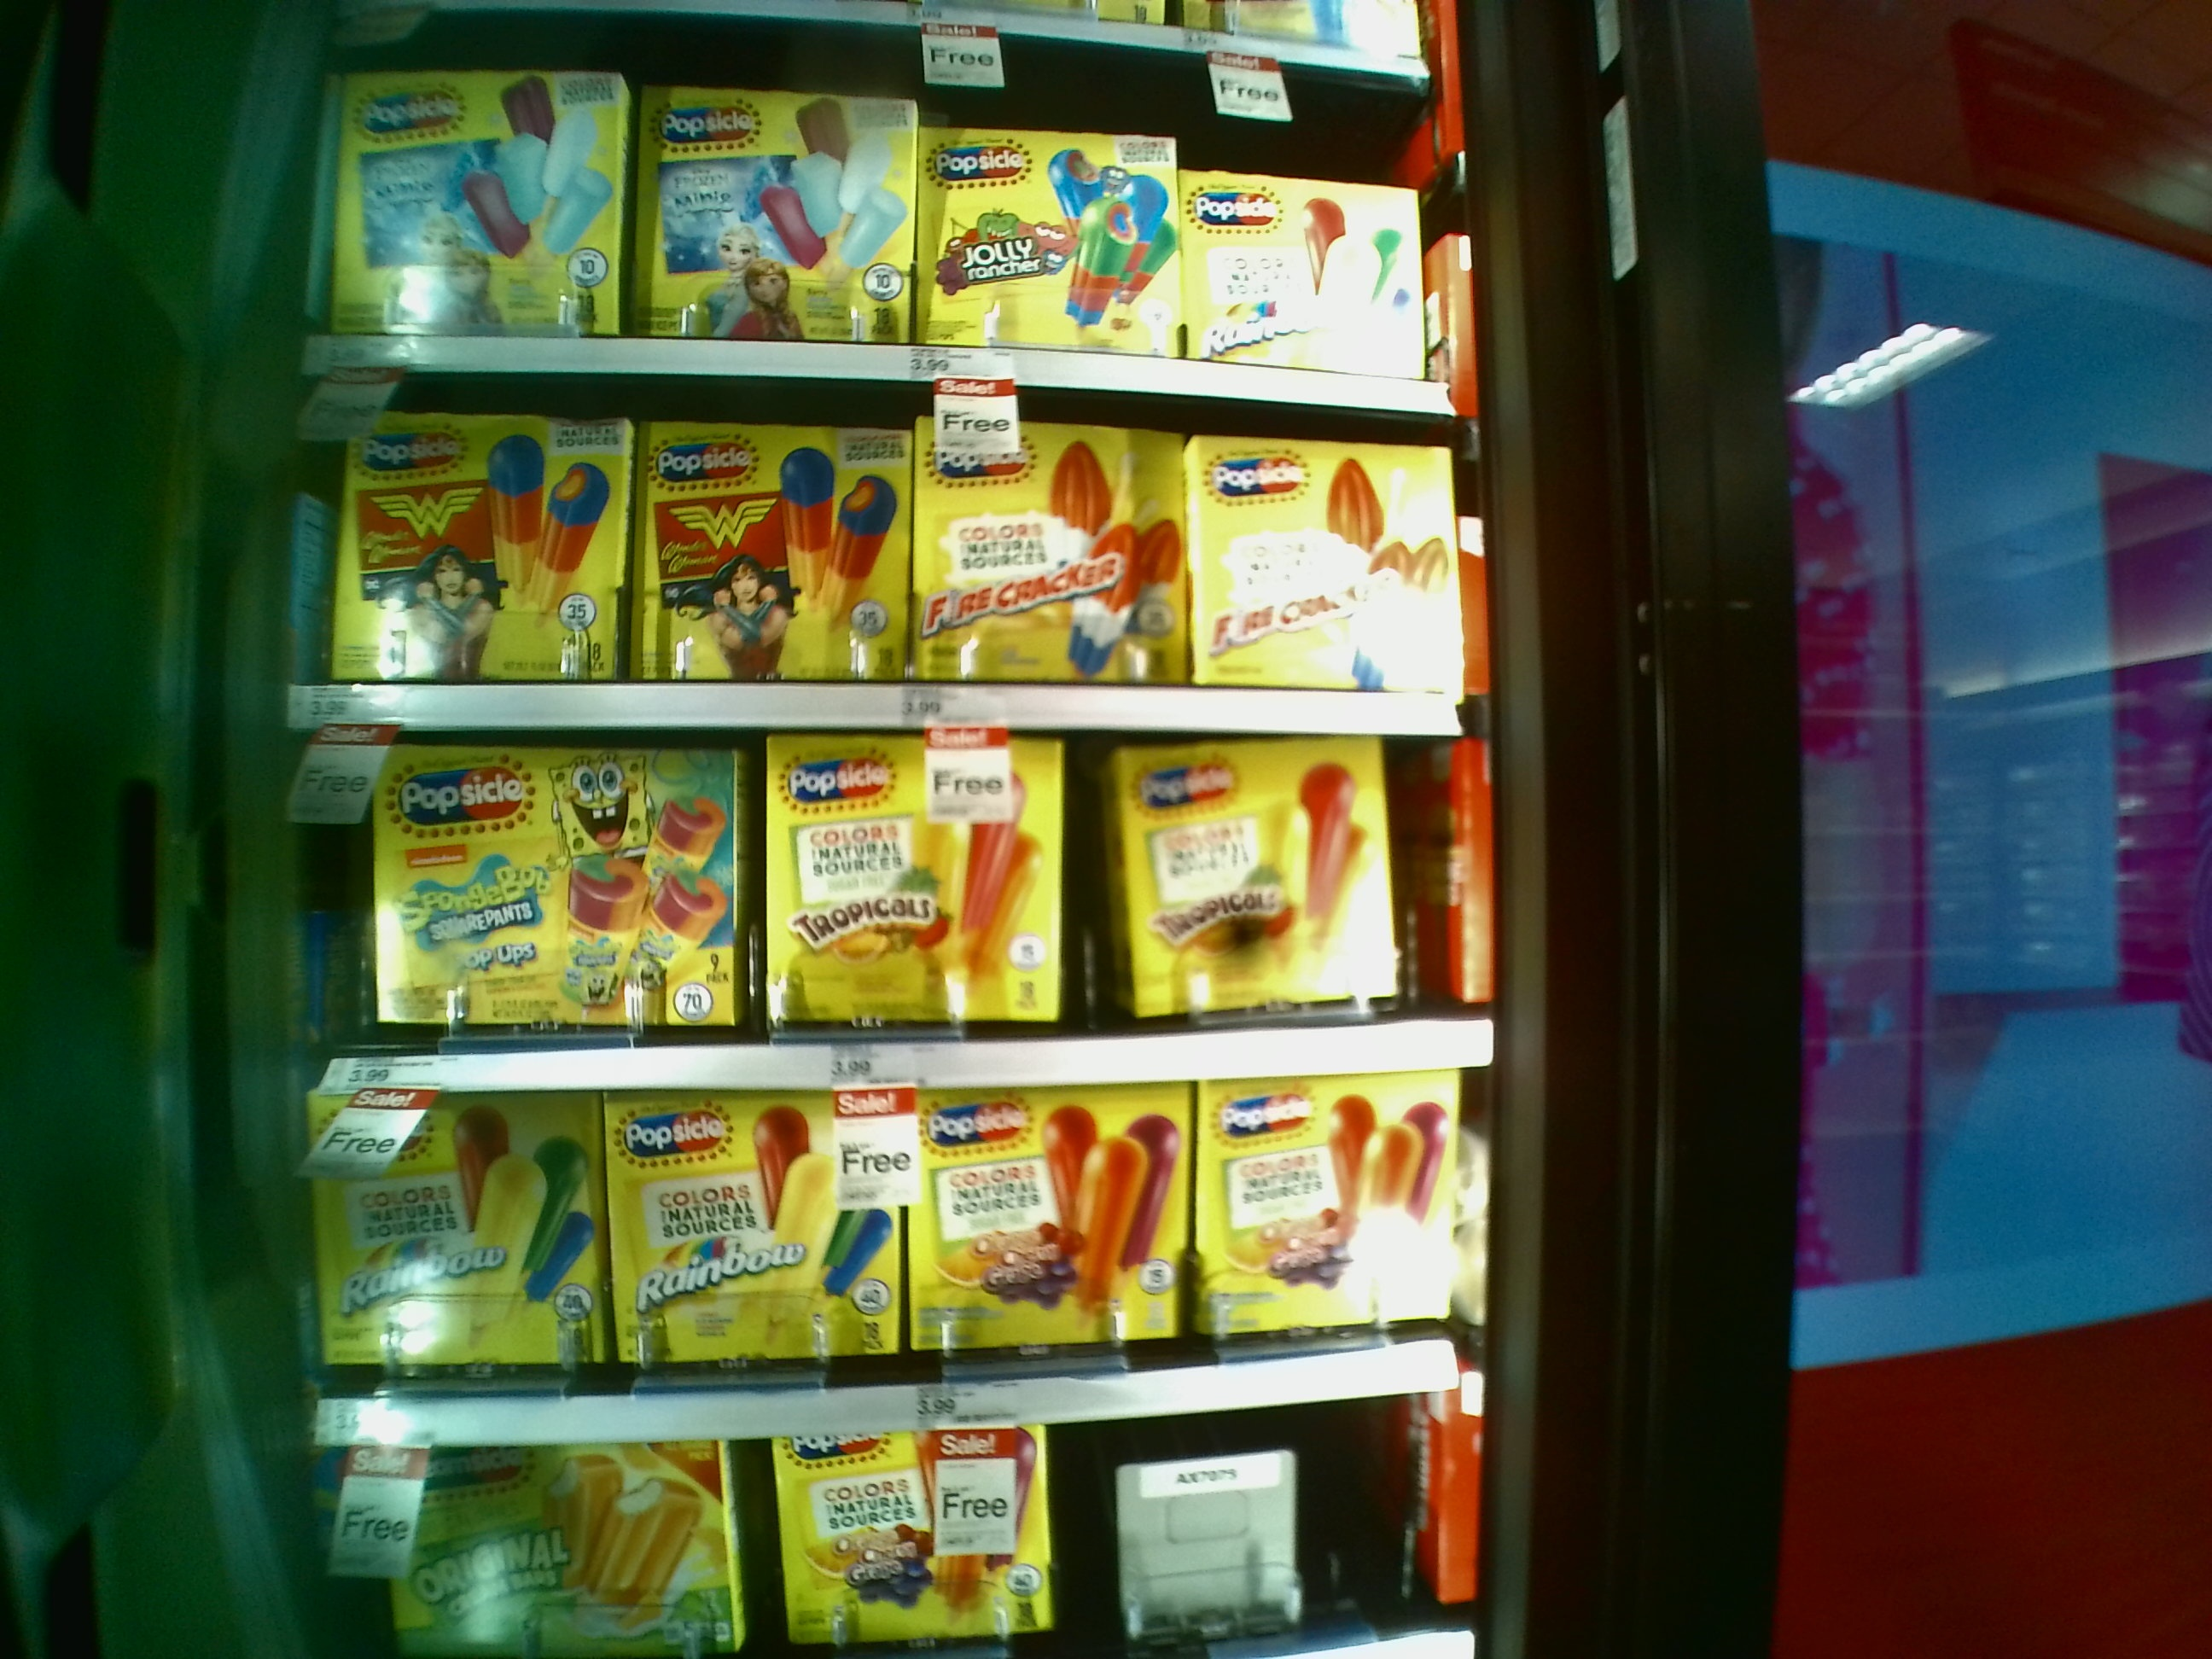shelf: (326, 17, 1461, 413), (308, 392, 1475, 741), (319, 739, 1491, 1073), (310, 1091, 1467, 1419)
